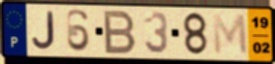3: (142, 10, 169, 56)
6: (65, 8, 91, 54)
8: (181, 10, 210, 58)
B: (103, 9, 139, 55)
J: (31, 10, 57, 51)
M: (211, 12, 250, 57)
